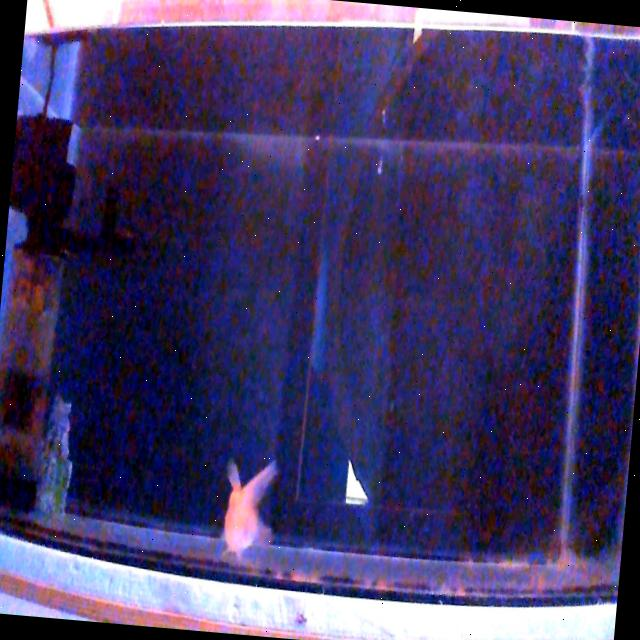fish: (216, 453, 282, 558)
